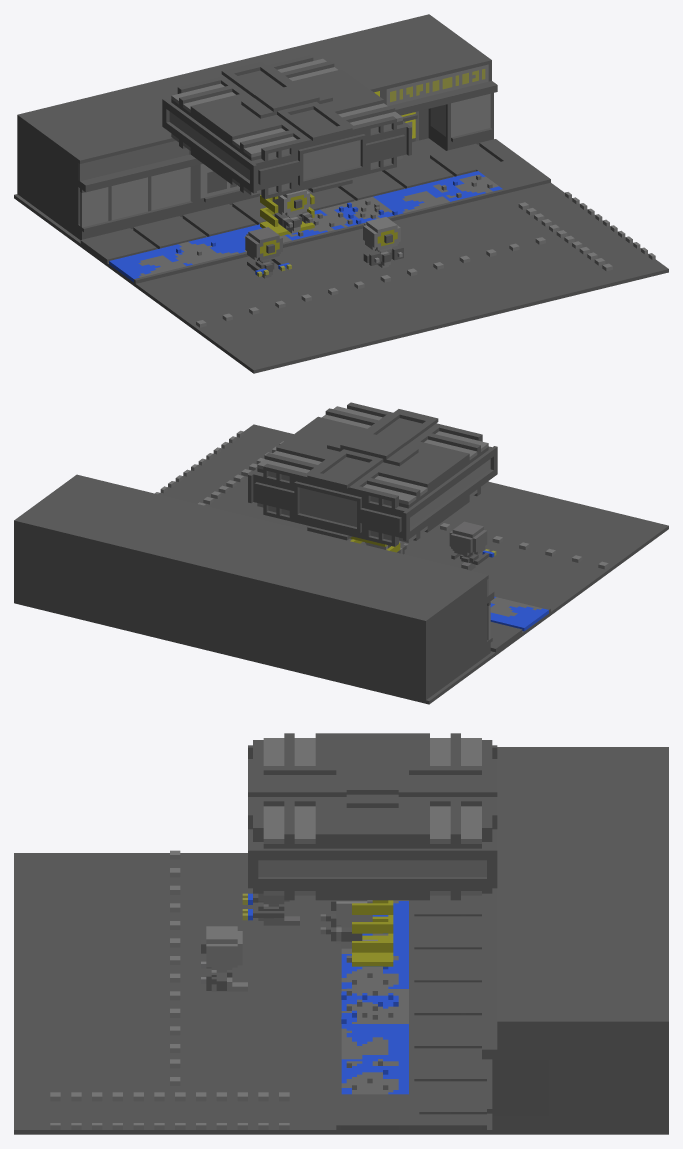
Rendered from scene_aliens.obj.
The picture shows the model from 3 angles, top to bottom: view 1: azimuth 30°, elevation 25°; view 2: azimuth 150°, elevation 25°; view 3: azimuth 270°, elevation 25°; orthographic projection. The views are drawn at different scales.
Bounding box in the file's own units: 126 × 41 × 126.
